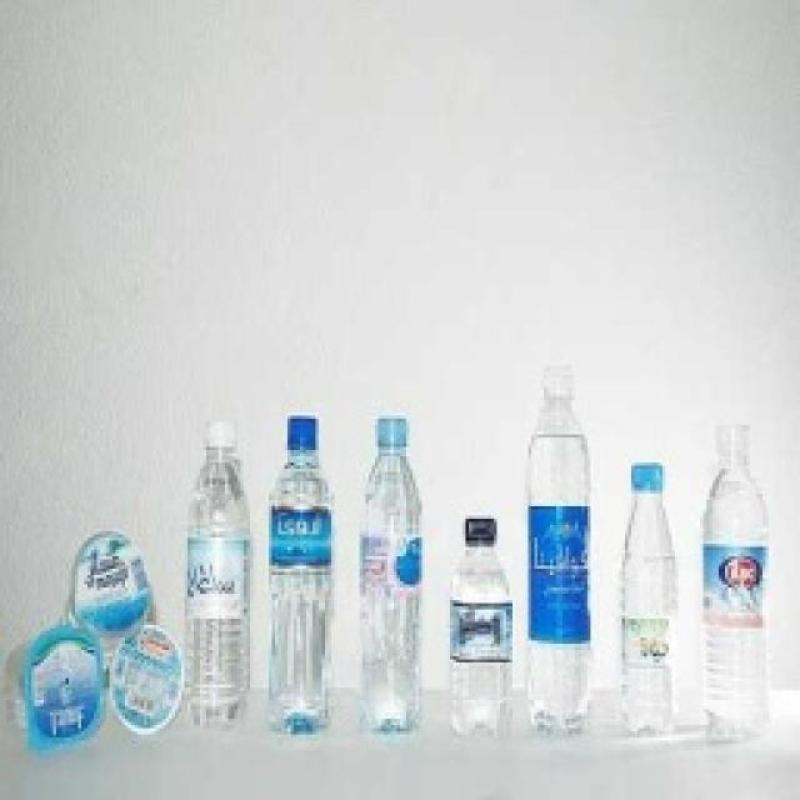botella: (523, 362, 592, 744), (698, 425, 771, 744), (356, 417, 425, 752), (266, 419, 335, 750), (178, 416, 250, 732), (615, 465, 675, 734), (446, 518, 515, 744)
